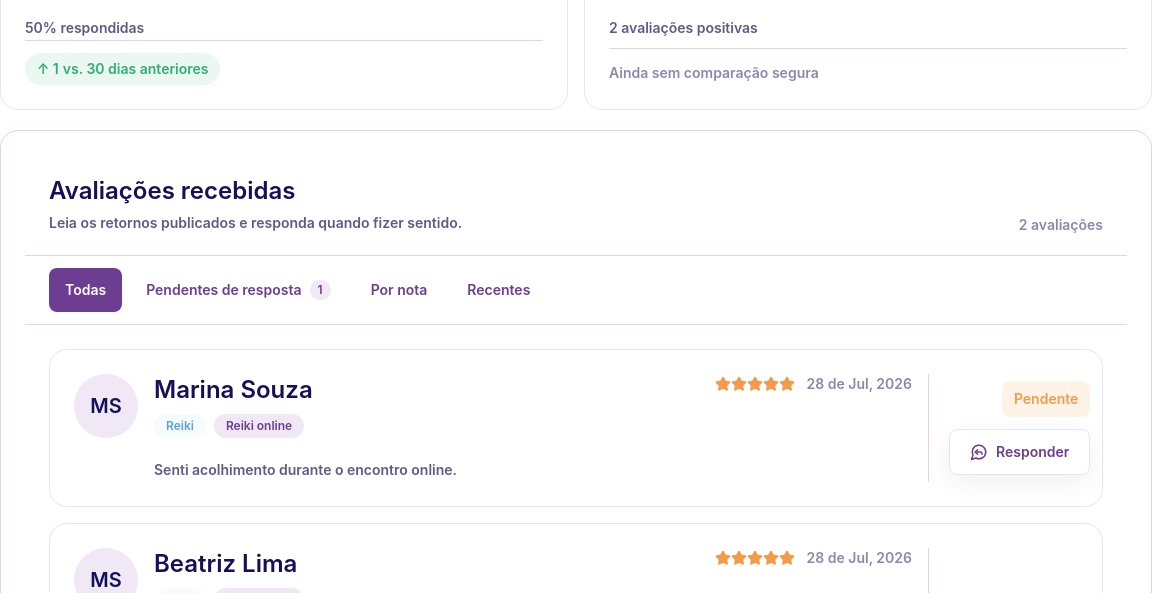
Test: TherapistReviewsPage › renders metrics and filters pending replies
(page scrolled)
Check: the heading "Avaliações recebidas" is shown, box left=49, top=176, right=295, bottom=205
Click the tab "Pendentes de resposta 1" at (238, 290), box left=130, top=268, right=347, bottom=312
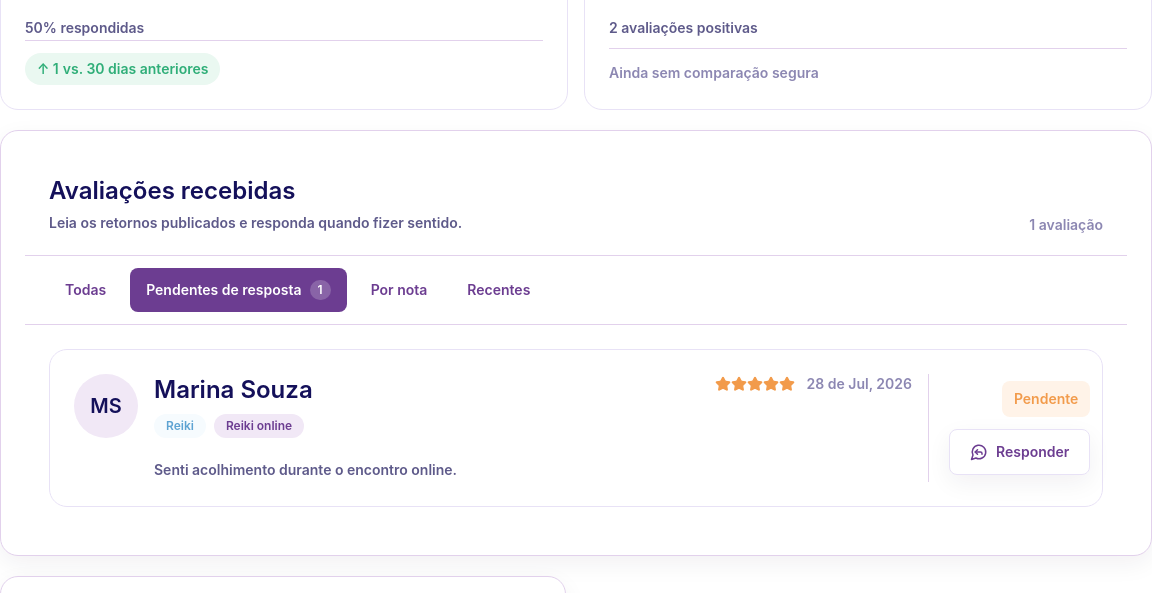
Check: the heading "Marina Souza" is shown, box left=154, top=374, right=313, bottom=406
Check: the heading "Beatriz Lima" is gone
